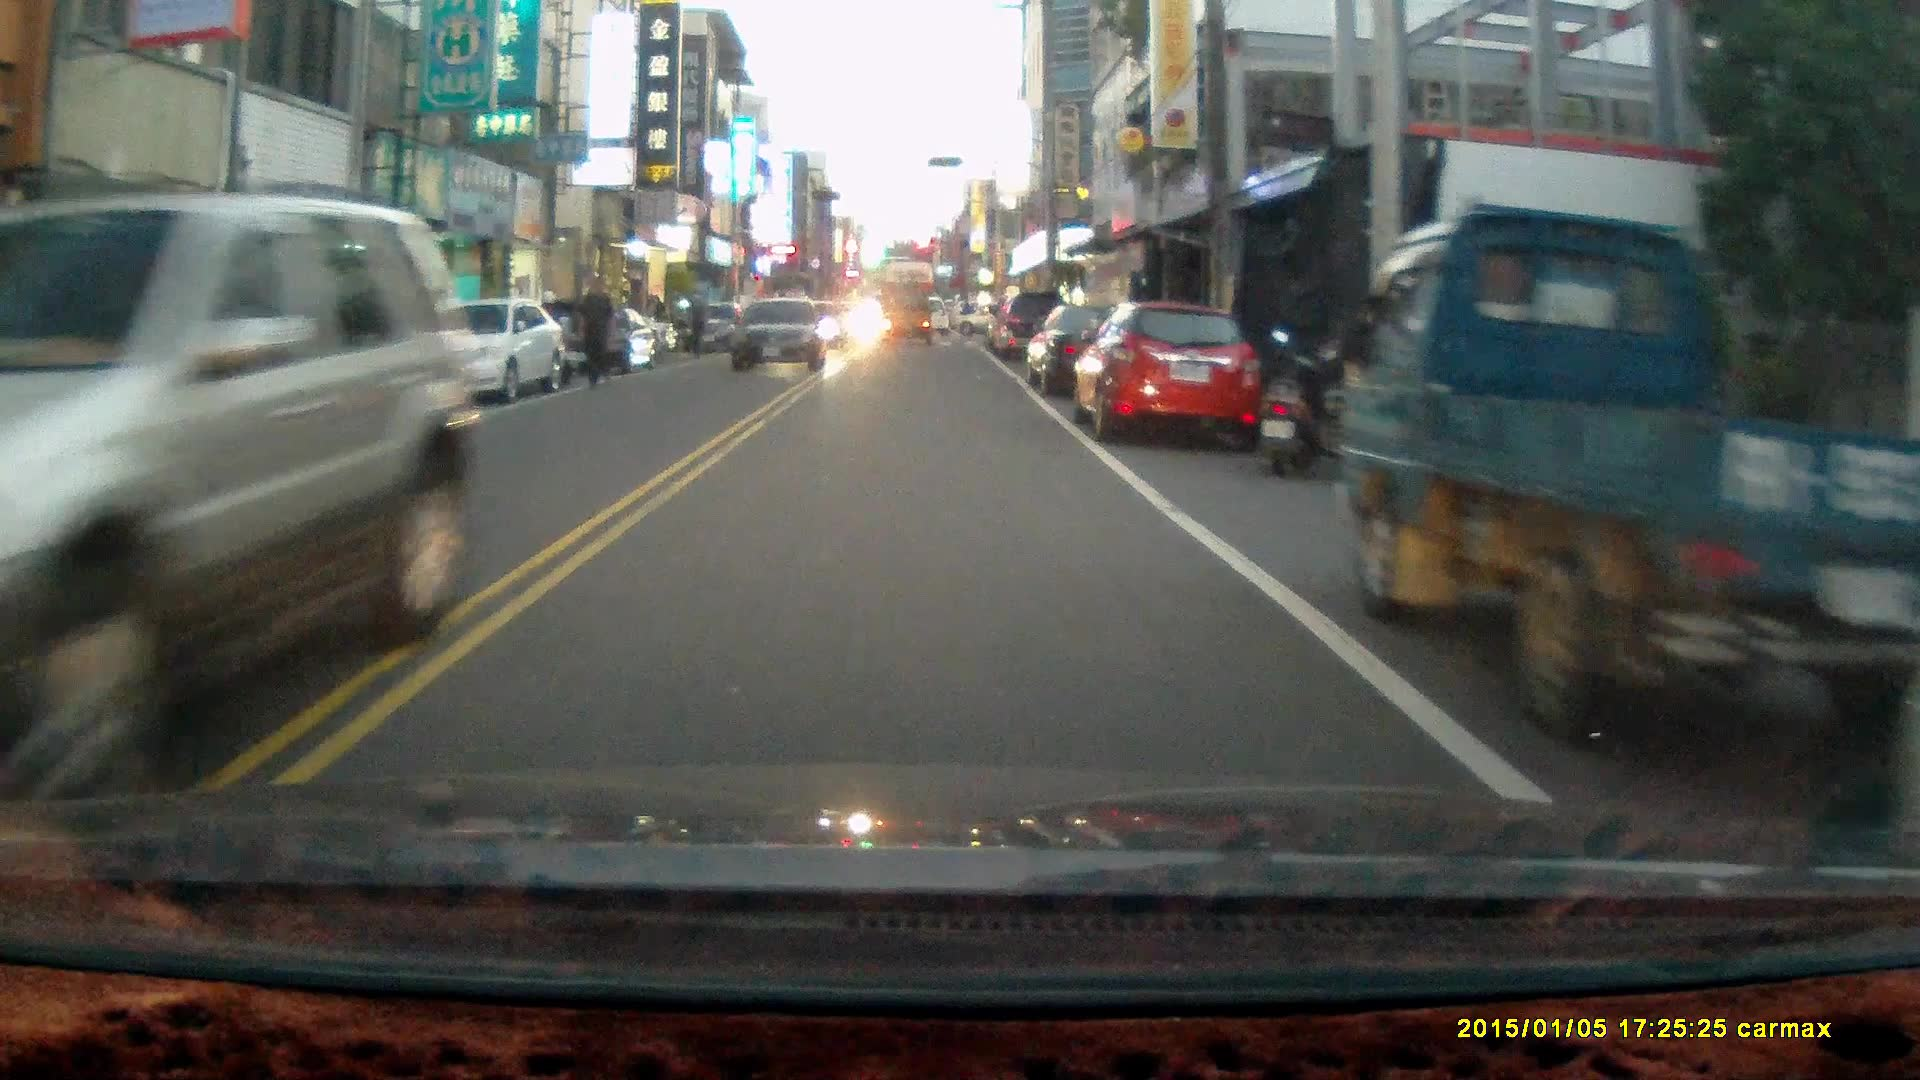pedestrian: (573, 271, 613, 393), (684, 289, 708, 355)
vehicle: (1334, 204, 1920, 734), (1, 194, 475, 793), (1074, 302, 1262, 449), (1027, 292, 1180, 403), (733, 294, 828, 374), (876, 283, 936, 348)
